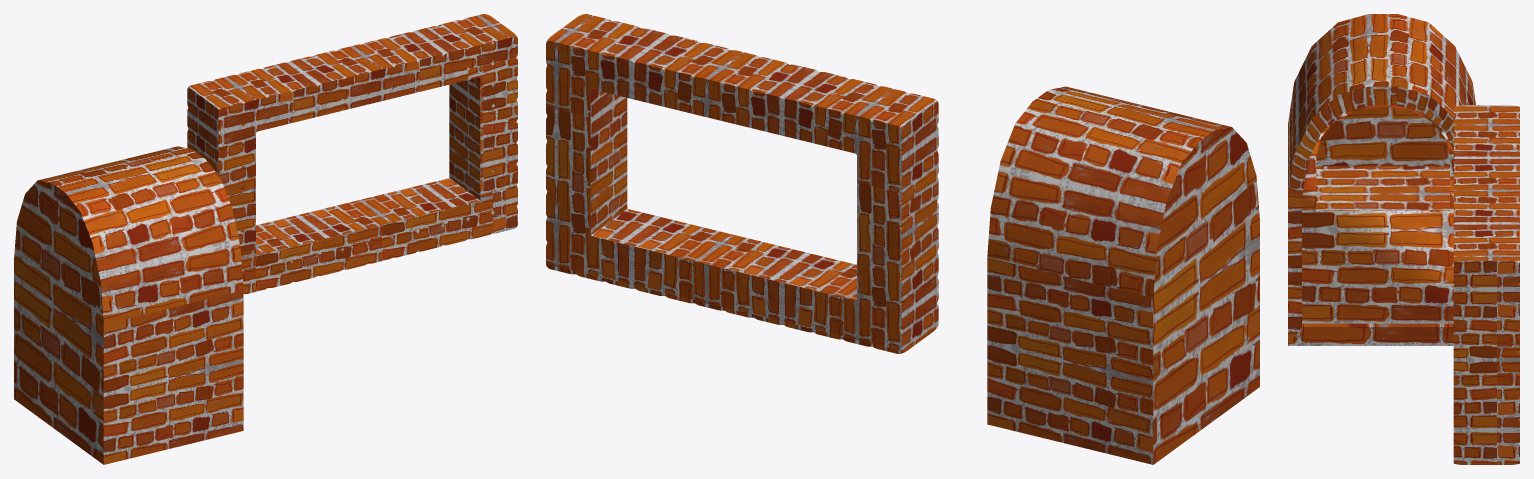
The model's file is enviroment_3.fbx.
3 views of the same model, side by side, from view 1: azimuth 30°, elevation 25°; view 2: azimuth 150°, elevation 25°; view 3: azimuth 270°, elevation 25° (orthographic). The views are drawn at different scales.
Parts seen in each view (by area): view 1: horno_high, Ventana_chef_high; view 2: horno_high, Ventana_chef_high; view 3: horno_high, Ventana_chef_high.
Part boxes in pixels (bbox=[...]): horno_high: bbox=[14, 146, 243, 464]; Ventana_chef_high: bbox=[187, 14, 517, 294]; horno_high: bbox=[987, 86, 1259, 464]; Ventana_chef_high: bbox=[546, 14, 938, 353]; horno_high: bbox=[1288, 14, 1475, 345]; Ventana_chef_high: bbox=[1453, 105, 1519, 464].
Size of the model in its own units: 485 by 237 by 186.
Materials: 1 (1 with a texture image).
